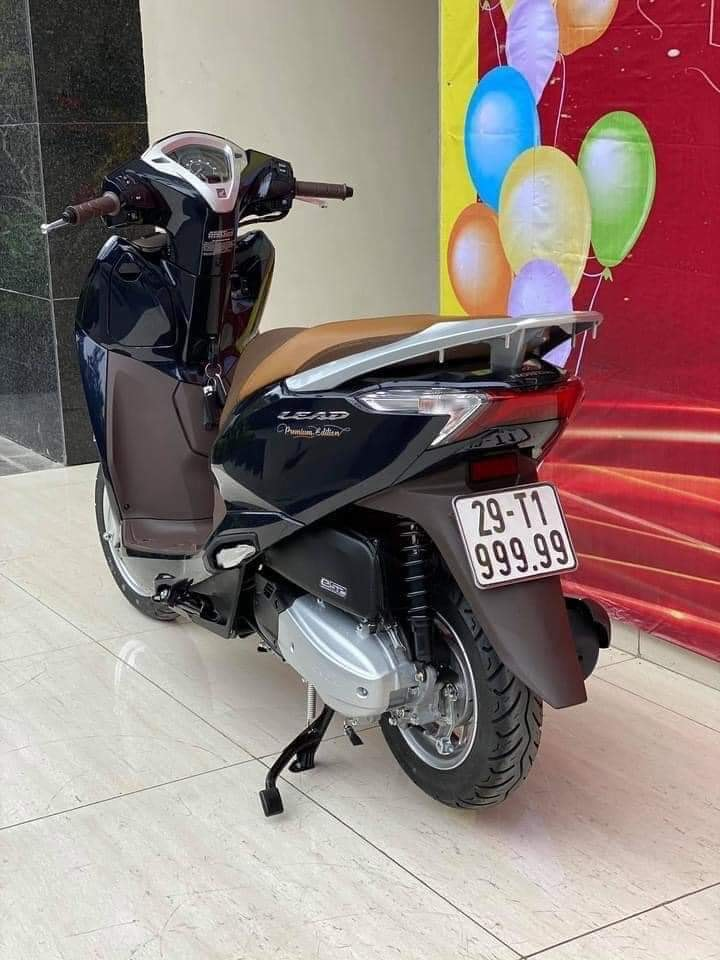bien_so: (447, 474, 587, 594)
